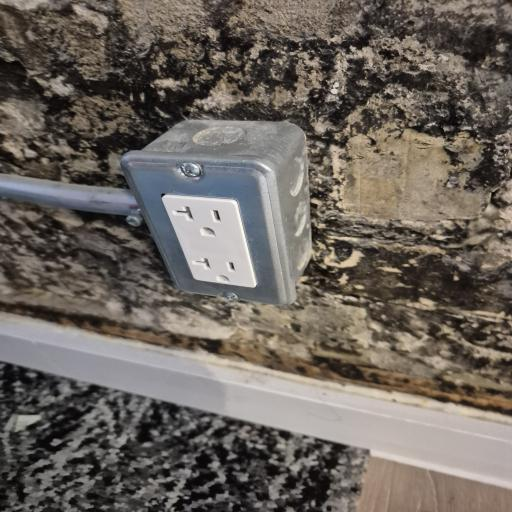outlet: (124, 154, 288, 297)
